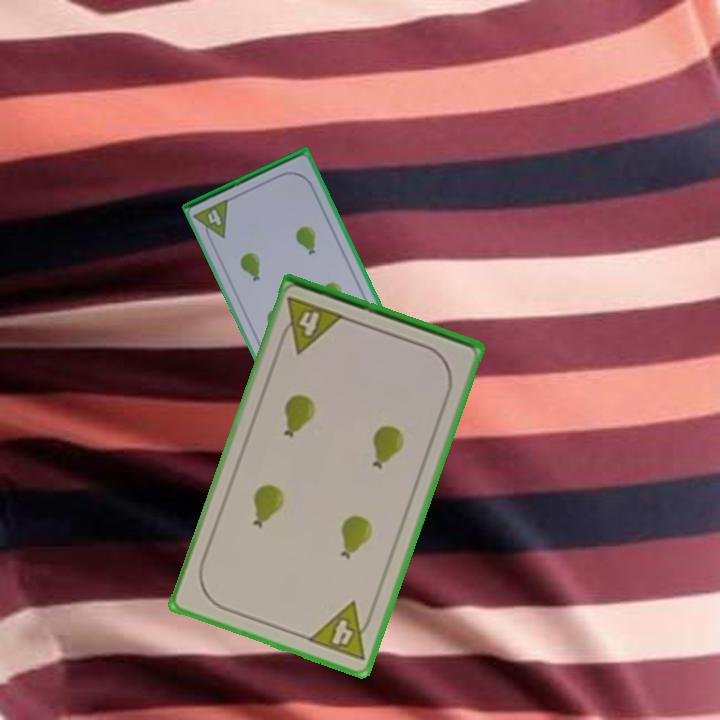4p: (304, 598, 378, 664), (275, 293, 347, 357), (191, 195, 233, 246)
